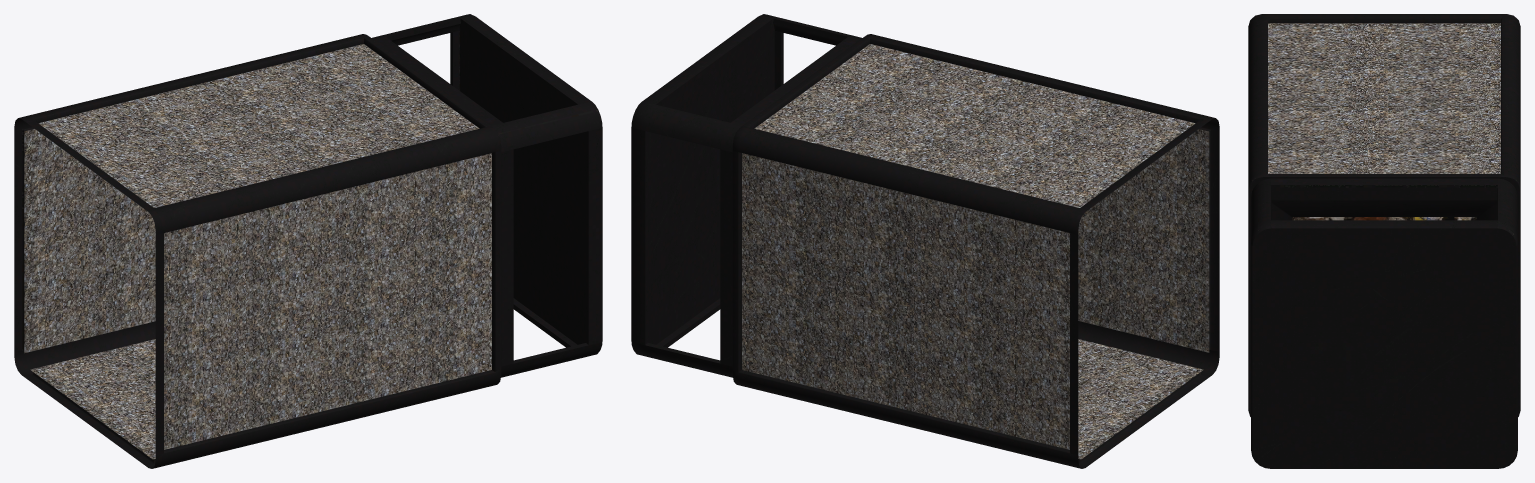
File: cP_GarbageBin02.dae
The picture shows the model from 3 angles, left to right: view 1: azimuth 30°, elevation 25°; view 2: azimuth 150°, elevation 25°; view 3: azimuth 270°, elevation 25°; orthographic projection. The views are drawn at different scales.
Visible parts, largest first — view 1: cP_GarbageBin02.001; view 2: cP_GarbageBin02.001; view 3: cP_GarbageBin02.001.
Part boxes in pixels (x1,y1,x2,y2): cP_GarbageBin02.001: (14,14,602,468); cP_GarbageBin02.001: (631,14,1219,468); cP_GarbageBin02.001: (1248,14,1520,468).
Bounding box in the file's own units: 1.38 × 0.7519 × 0.7519.
